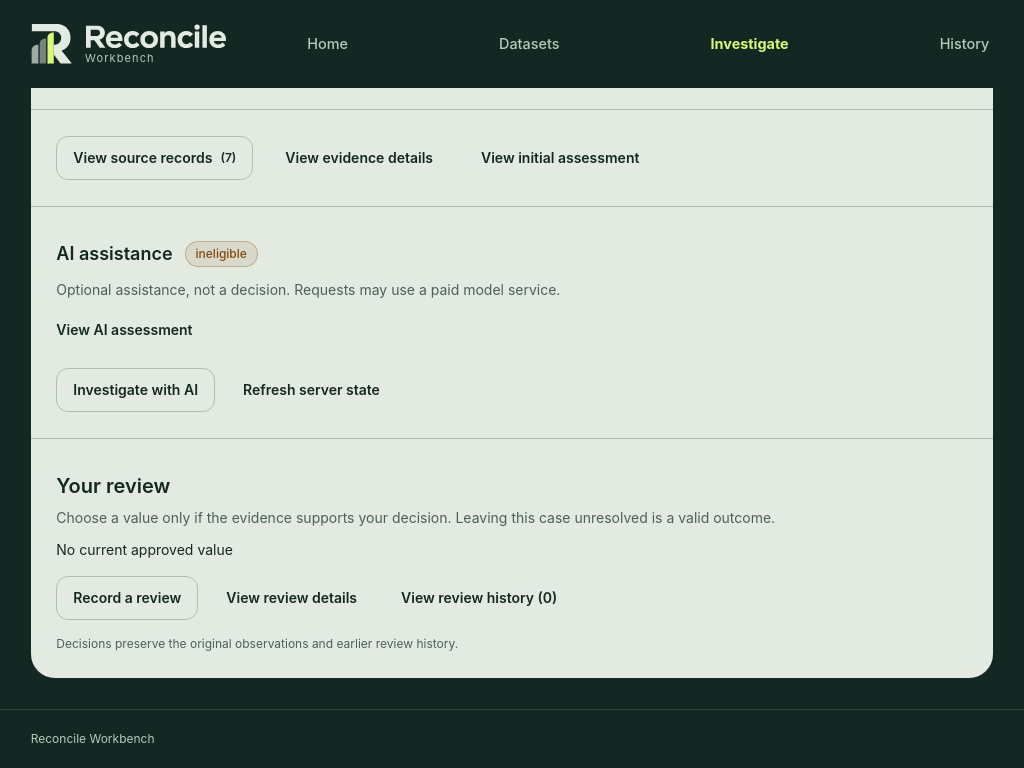
Scenario: keeps AI ineligible distinct and prevents accepting it
(page scrolled)
expect the heading "Your review" is shown: met, box [56, 474, 170, 498]
Click the button "Record a review": click(127, 598) [56, 576, 198, 620]
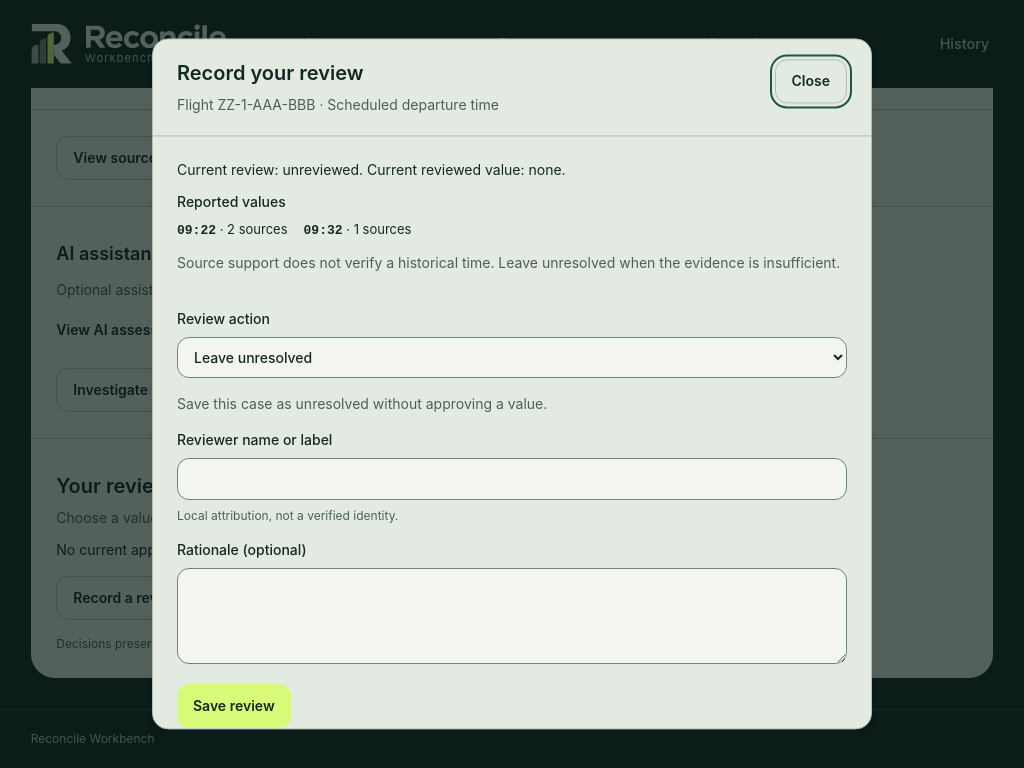
expect the text "ineligible" is shown: met, box [185, 241, 258, 267]
expect the button "Save review" is enabled: met, box [177, 684, 291, 728]
